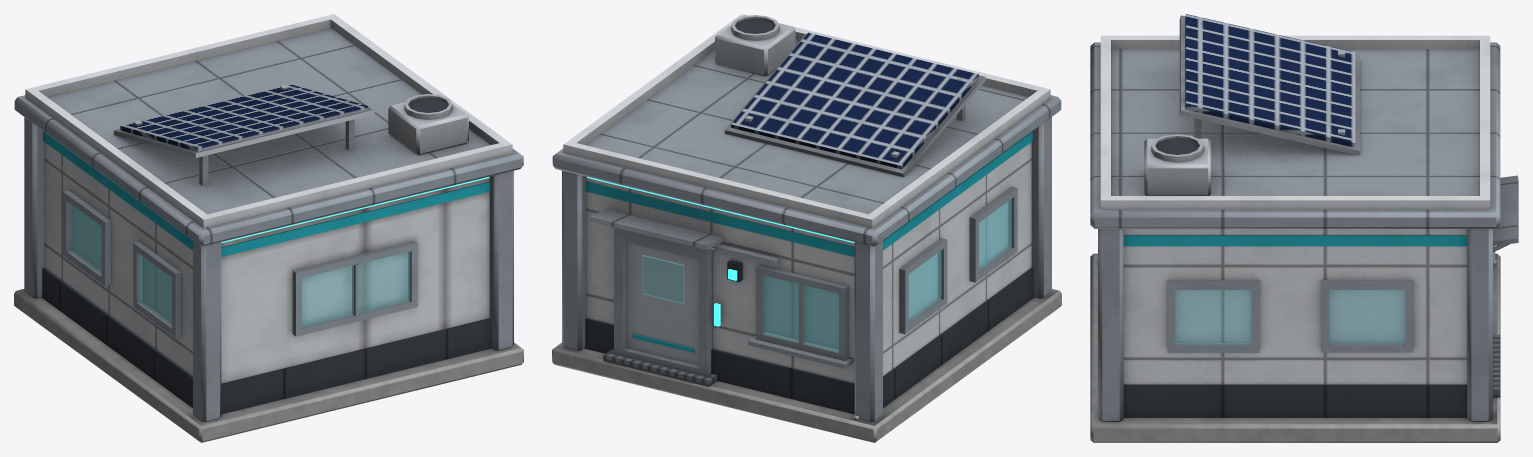
Rendered from casa_pequena_a.fbx.
3 renders of one model, left to right at view 1: azimuth 30°, elevation 25°; view 2: azimuth 150°, elevation 25°; view 3: azimuth 270°, elevation 25°, orthographic. The views are drawn at different scales.
Visible parts, largest first — view 1: casa_pequena_a, casa_pequena_a_cristal, casa_pequena_a_neon; view 2: casa_pequena_a, casa_pequena_a_cristal, casa_pequena_a_puerta, casa_pequena_a_neon; view 3: casa_pequena_a, casa_pequena_a_cristal.
Part boxes in pixels (bbox=[...]): casa_pequena_a: bbox=[14, 14, 523, 442]; casa_pequena_a_cristal: bbox=[69, 203, 409, 326]; casa_pequena_a_neon: bbox=[221, 177, 489, 243]; casa_pequena_a: bbox=[552, 14, 1061, 442]; casa_pequena_a_cristal: bbox=[642, 199, 1011, 351]; casa_pequena_a_puerta: bbox=[626, 242, 698, 365]; casa_pequena_a_neon: bbox=[587, 177, 854, 326]; casa_pequena_a: bbox=[1090, 14, 1518, 442]; casa_pequena_a_cristal: bbox=[1175, 290, 1405, 344].
Bounding box in the file's own units: 8 × 6 × 8.35.
Materials: 3 (3 with a texture image).
